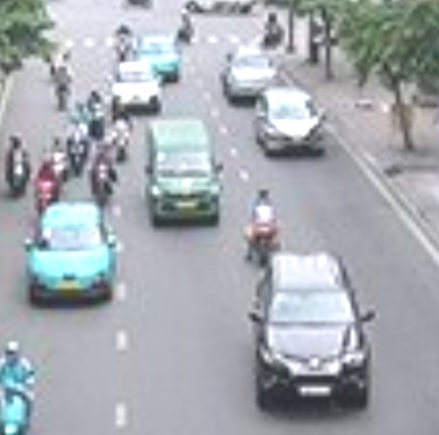car: (255, 253, 371, 411), (27, 201, 115, 305), (144, 119, 221, 226), (255, 88, 325, 159), (227, 48, 280, 102), (112, 61, 162, 114)
